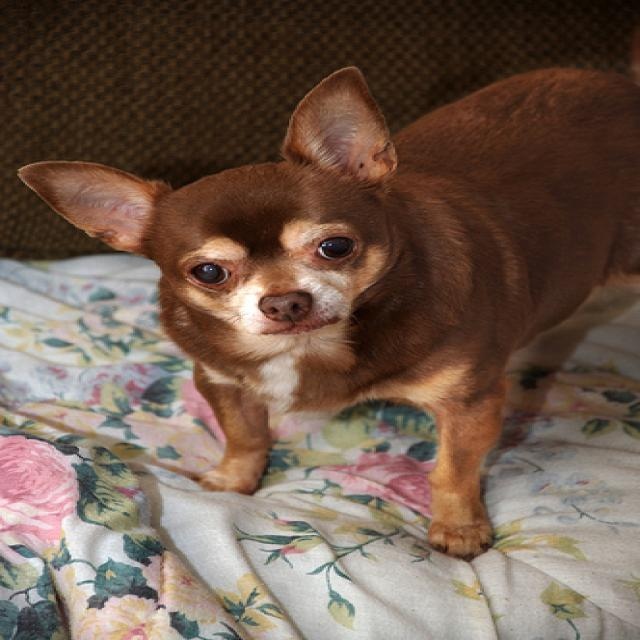dog-chihuahua: (2, 52, 636, 575)
